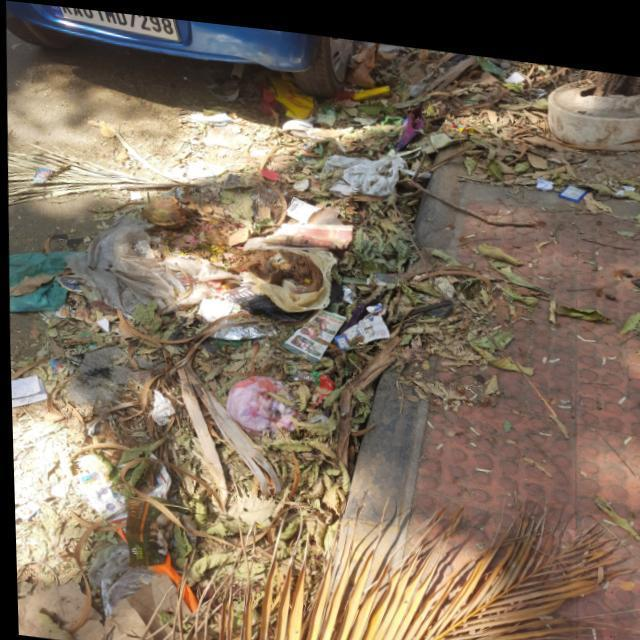Garbage: (7, 32, 640, 640)
Plastic: (556, 171, 586, 188), (281, 111, 313, 124)
Plastic_Bag: (64, 213, 239, 309), (219, 242, 354, 316), (84, 541, 154, 613), (223, 369, 294, 431), (321, 146, 405, 188), (285, 190, 318, 217), (289, 363, 313, 375), (409, 71, 427, 86), (381, 168, 383, 169)
Plastic_Straw: (283, 353, 298, 357), (258, 347, 268, 350), (270, 350, 277, 353)
Plastic_wraper: (393, 96, 423, 141), (209, 317, 274, 335), (476, 44, 506, 65), (12, 501, 37, 521), (314, 97, 336, 118), (313, 366, 333, 383), (504, 59, 524, 71), (309, 386, 324, 401), (310, 364, 318, 369), (313, 383, 316, 387)
Tetrapack: (351, 76, 391, 92)
